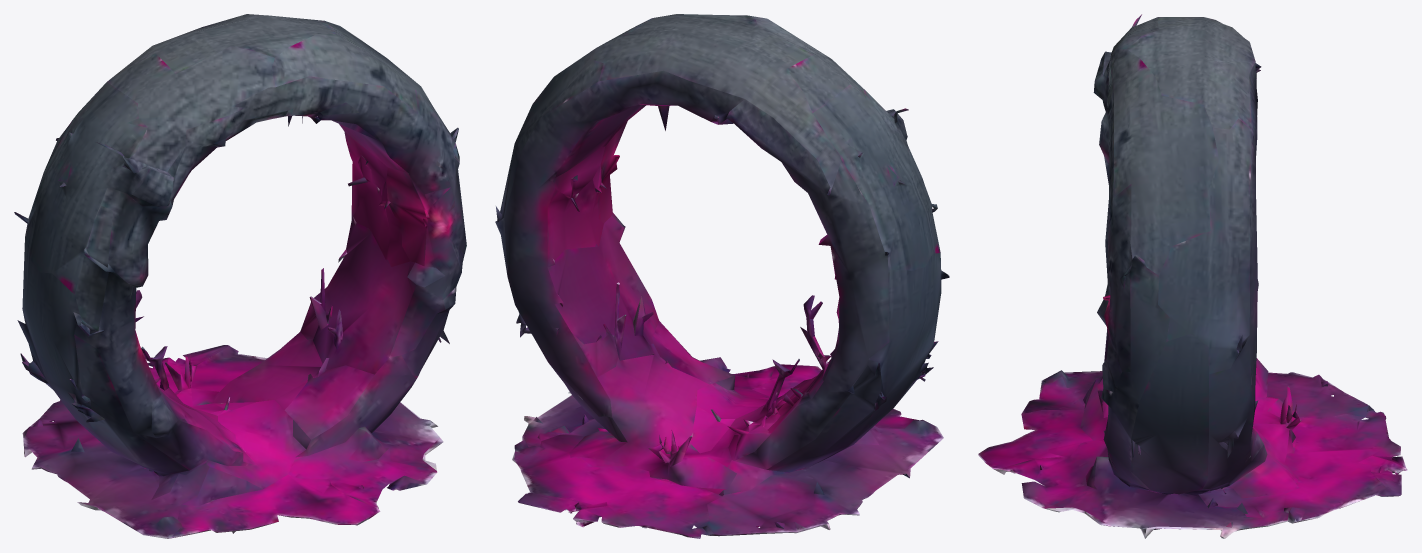
File: yggdrasil-hvergelmir-depth-ring.collider.glb
3 views of the same model, side by side, from view 1: azimuth 30°, elevation 25°; view 2: azimuth 150°, elevation 25°; view 3: azimuth 270°, elevation 25° (orthographic). The views are drawn at different scales.
Visible parts, largest first — view 1: temp_mesh.ply; view 2: temp_mesh.ply; view 3: temp_mesh.ply.
Boxes of the visible parts, <box> form: temp_mesh.ply: <box>14,14,466,538</box>; temp_mesh.ply: <box>495,14,949,538</box>; temp_mesh.ply: <box>978,14,1407,538</box>.
Bounding box in the file's own units: 1.96 × 1.95 × 1.82.
Materials: 1 (1 with a texture image).
